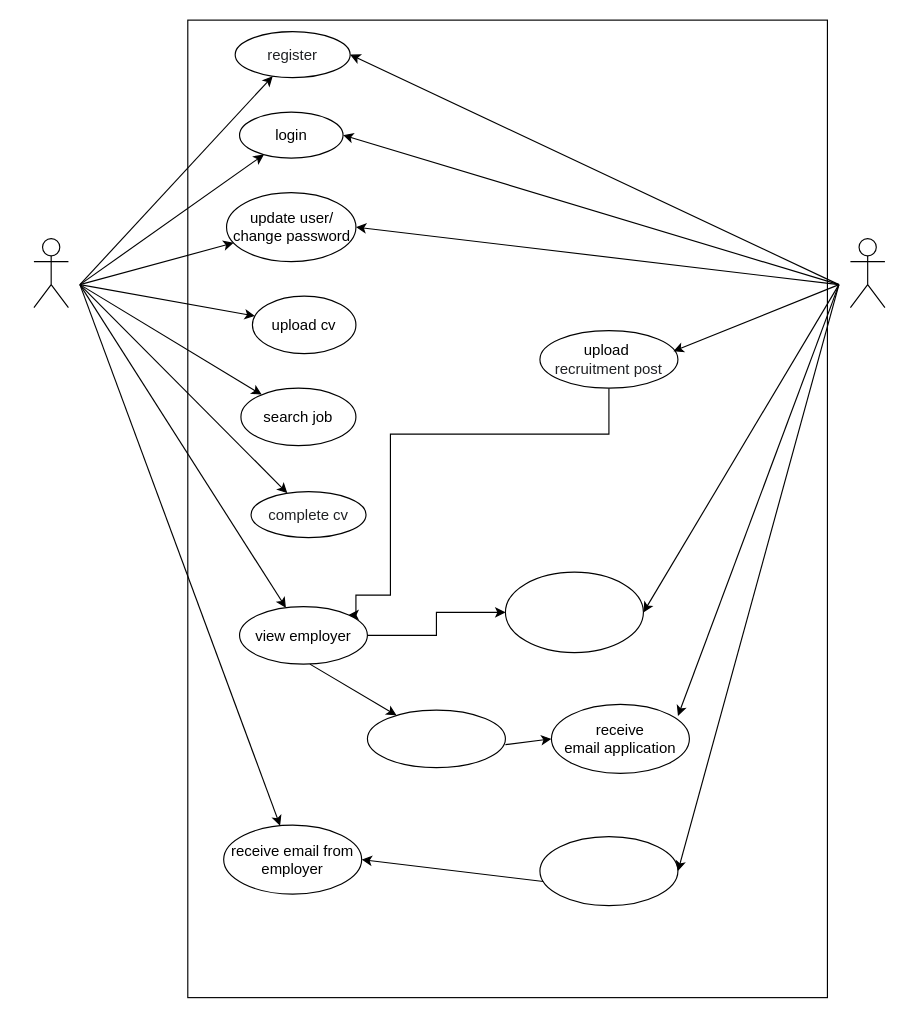
This 918x1018 diagram has some shape labels left out. Here are the shapes that lost their labels. From the top down, the box of each, then its label:
(33, 237, 68, 308): job seeker
(849, 237, 885, 308): employer
(504, 571, 643, 653): chat/ request
(366, 709, 505, 768): submit cv
(539, 835, 678, 906): send email to job seeker
